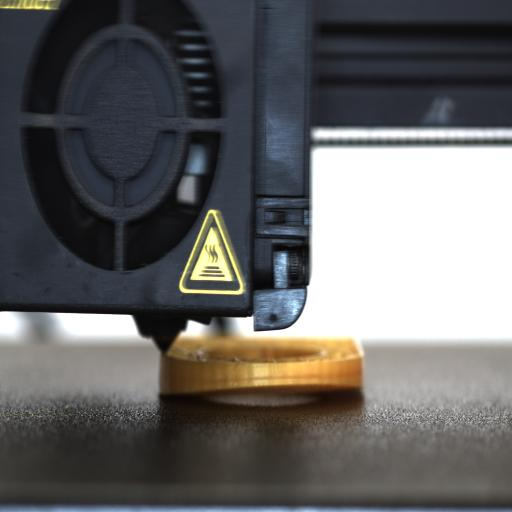warp: (162, 373, 360, 411)
